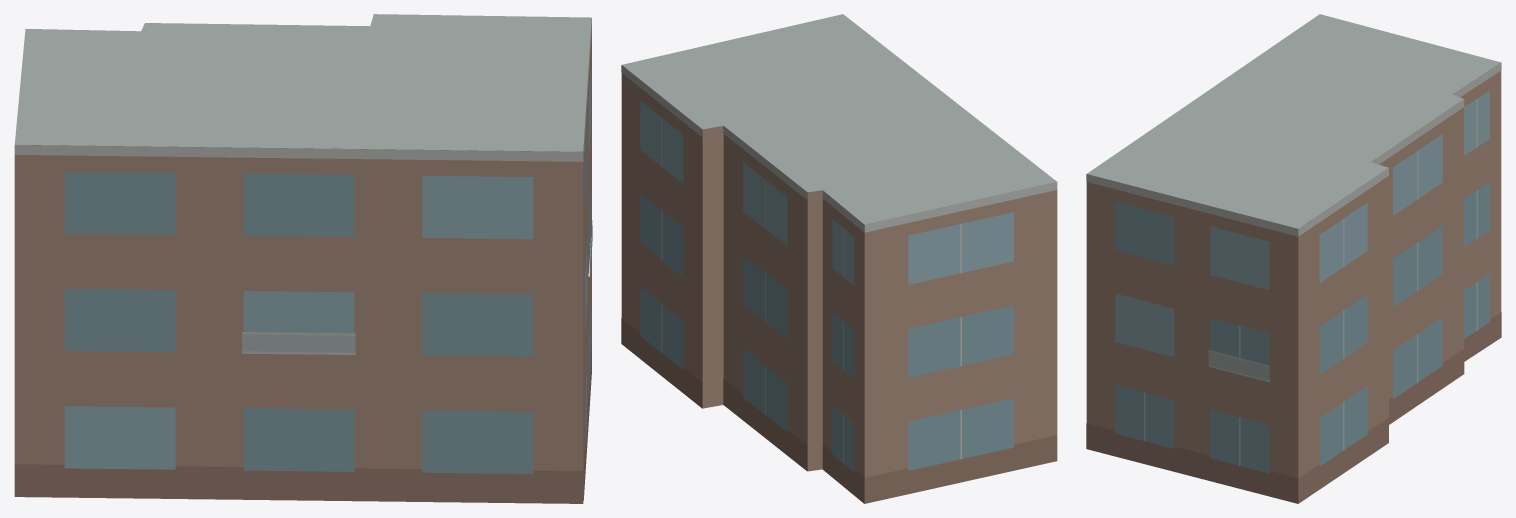
The model's file is survey-upis-32509070.glb.
3 views of the same model, side by side, from view 1: azimuth 30°, elevation 25°; view 2: azimuth 150°, elevation 25°; view 3: azimuth 270°, elevation 25° (orthographic). The views are drawn at different scales.
Visible parts, largest first — view 1: survey-upis-32509070.tmp; view 2: survey-upis-32509070.tmp; view 3: survey-upis-32509070.tmp.
Part boxes in pixels (x1=…): survey-upis-32509070.tmp: x1=14, y1=14, x2=592, y2=503; survey-upis-32509070.tmp: x1=621, y1=14, x2=1057, y2=503; survey-upis-32509070.tmp: x1=1086, y1=14, x2=1501, y2=503.
Size of the model in its own units: 14.24 by 8.5 by 11.63.
